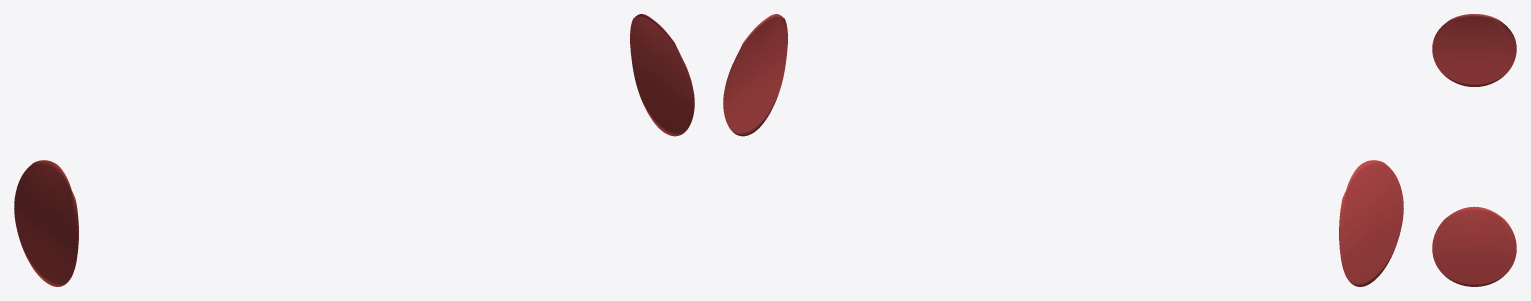
The model's file is RN02_race_roundels_accent.glb.
3 views of the same model, side by side, from view 1: azimuth 30°, elevation 25°; view 2: azimuth 150°, elevation 25°; view 3: azimuth 270°, elevation 25° (orthographic). The views are drawn at different scales.
Parts seen in each view (by area): view 1: MOD_NC_RN02_disc_R, MOD_NC_RN02_disc_L; view 2: MOD_NC_RN02_disc_R, MOD_NC_RN02_disc_L; view 3: MOD_NC_RN02_disc_L, MOD_NC_RN02_disc_R.
Part boxes in pixels (x1,y1,x2,y2): MOD_NC_RN02_disc_R: [14, 160, 78, 286]; MOD_NC_RN02_disc_L: [630, 14, 694, 136]; MOD_NC_RN02_disc_R: [1339, 160, 1403, 286]; MOD_NC_RN02_disc_L: [723, 14, 787, 136]; MOD_NC_RN02_disc_L: [1432, 206, 1516, 286]; MOD_NC_RN02_disc_R: [1432, 14, 1516, 86].
Bounding box in the file's own units: 1.68 × 0.3 × 0.3.
